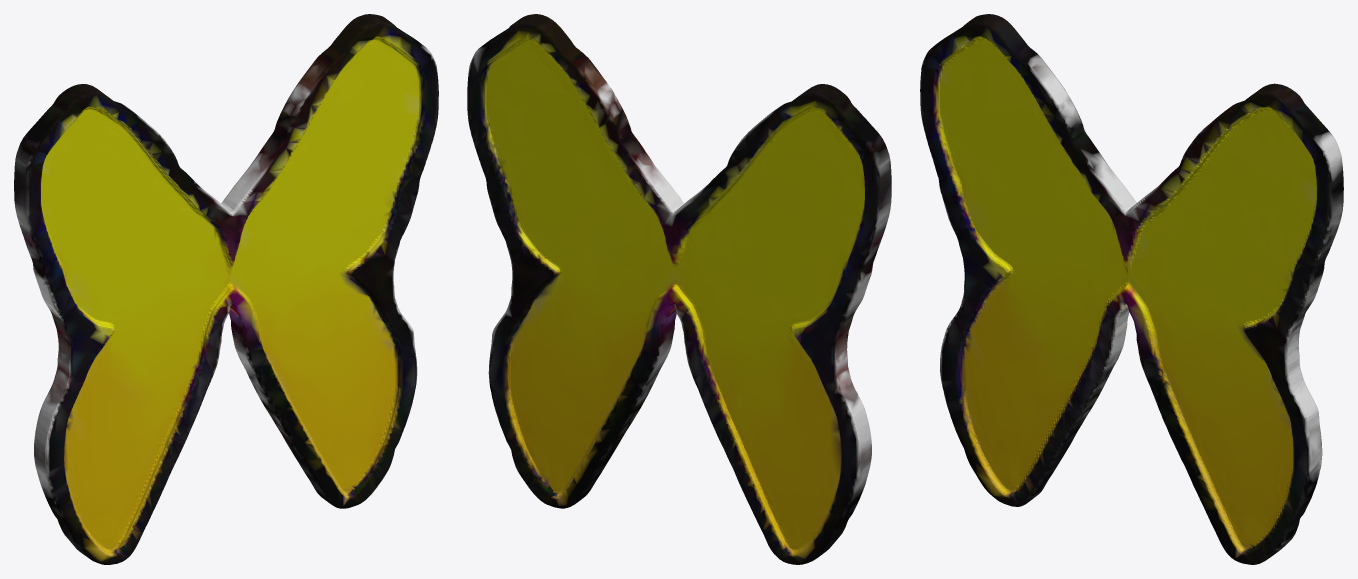
Rendered from pix_wing.glb.
3 views of the same model, side by side, from view 1: azimuth 30°, elevation 25°; view 2: azimuth 150°, elevation 25°; view 3: azimuth 330°, elevation 25° (orthographic).
Visible parts, largest first — view 1: geometry_0; view 2: geometry_0; view 3: geometry_0.
Part boxes in pixels (left/top/right/bottom): geometry_0: left=14, top=14, right=438, bottom=564; geometry_0: left=467, top=14, right=891, bottom=564; geometry_0: left=920, top=14, right=1343, bottom=564.
Bounding box in the file's own units: 0.5938 × 0.6577 × 0.0334.
